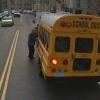Bus: (32, 8, 100, 85)
